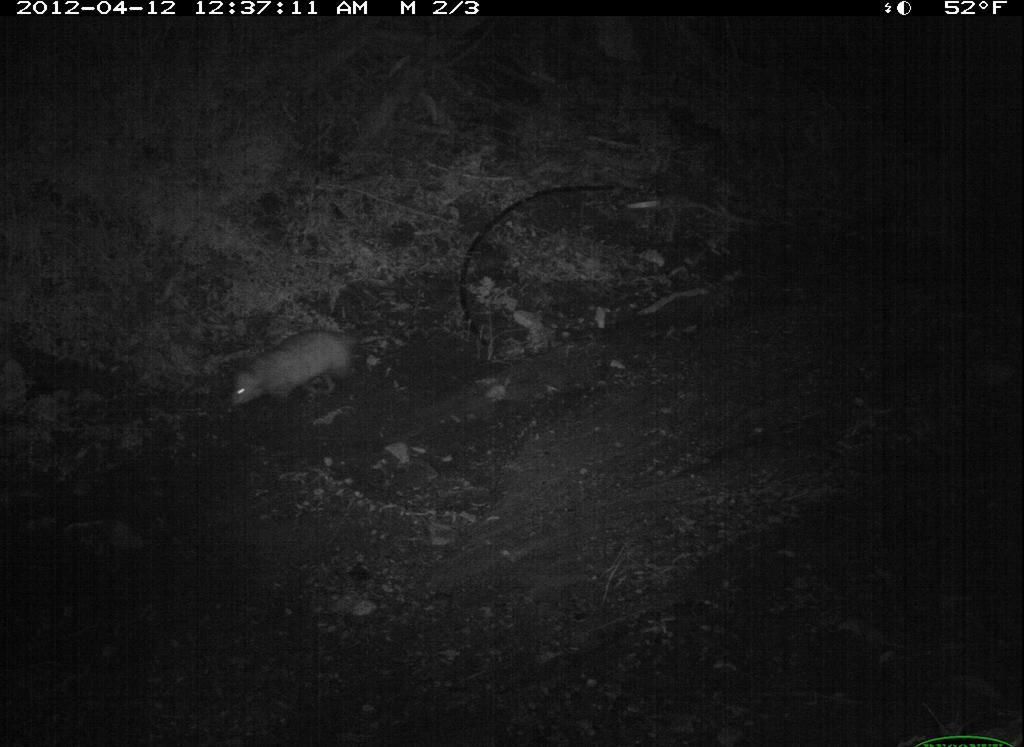opossum: (221, 319, 408, 414)
